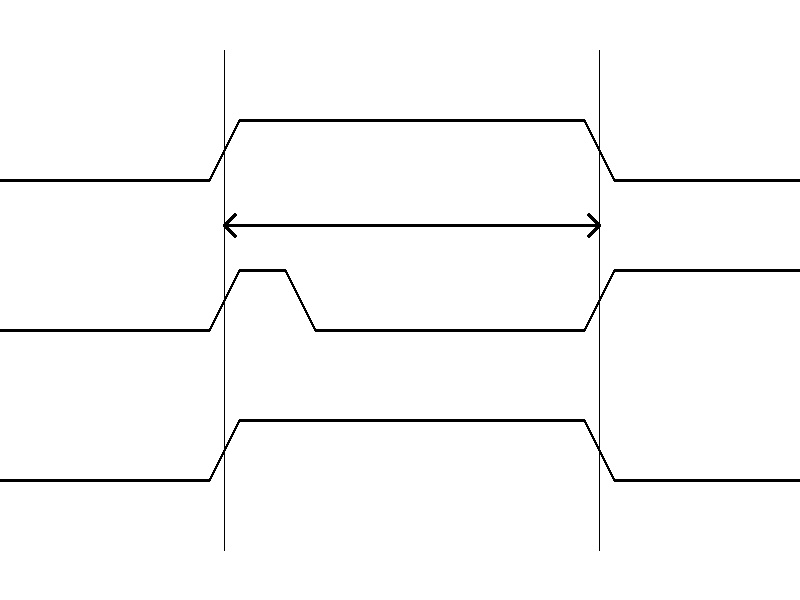double_arrow: (224, 210, 599, 240)
